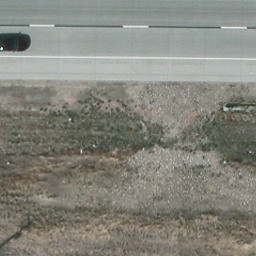car: (0, 36, 28, 52)
